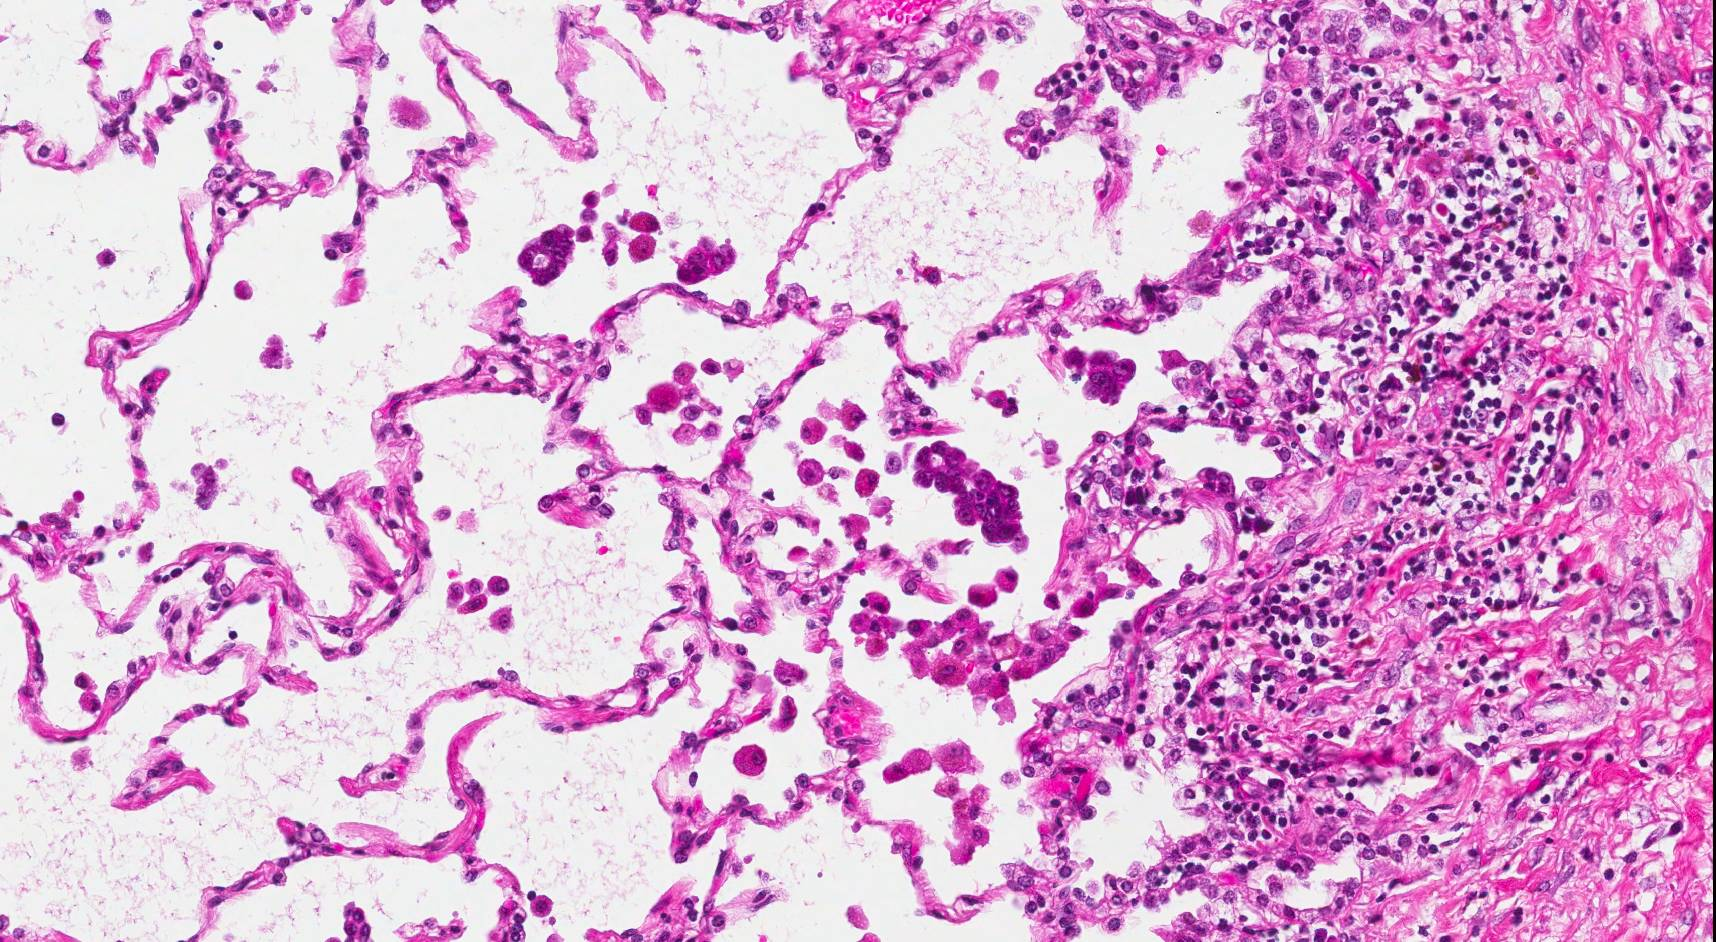stas: (912, 440, 1044, 555), (1063, 345, 1147, 406), (514, 216, 583, 288), (672, 231, 740, 288)
